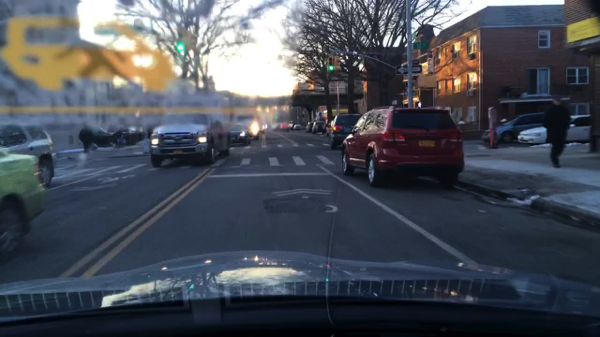car: (344, 107, 463, 190), (0, 150, 49, 261), (150, 113, 230, 165), (0, 119, 55, 184), (519, 115, 592, 145), (482, 113, 544, 147), (330, 111, 358, 147), (236, 114, 262, 136), (230, 124, 254, 144), (93, 126, 114, 147), (311, 121, 325, 133), (259, 120, 268, 134), (326, 119, 332, 134), (281, 122, 289, 131), (305, 122, 311, 132), (287, 122, 294, 130), (293, 124, 302, 130), (272, 124, 279, 130)
person: (544, 96, 570, 166), (79, 124, 93, 154), (113, 130, 124, 148)
traffic light: (324, 53, 334, 74), (178, 30, 185, 53), (334, 55, 340, 74), (190, 34, 196, 52), (275, 113, 279, 121)
traffic sign: (96, 25, 146, 37), (396, 65, 422, 75), (410, 42, 428, 51), (403, 90, 417, 95)
